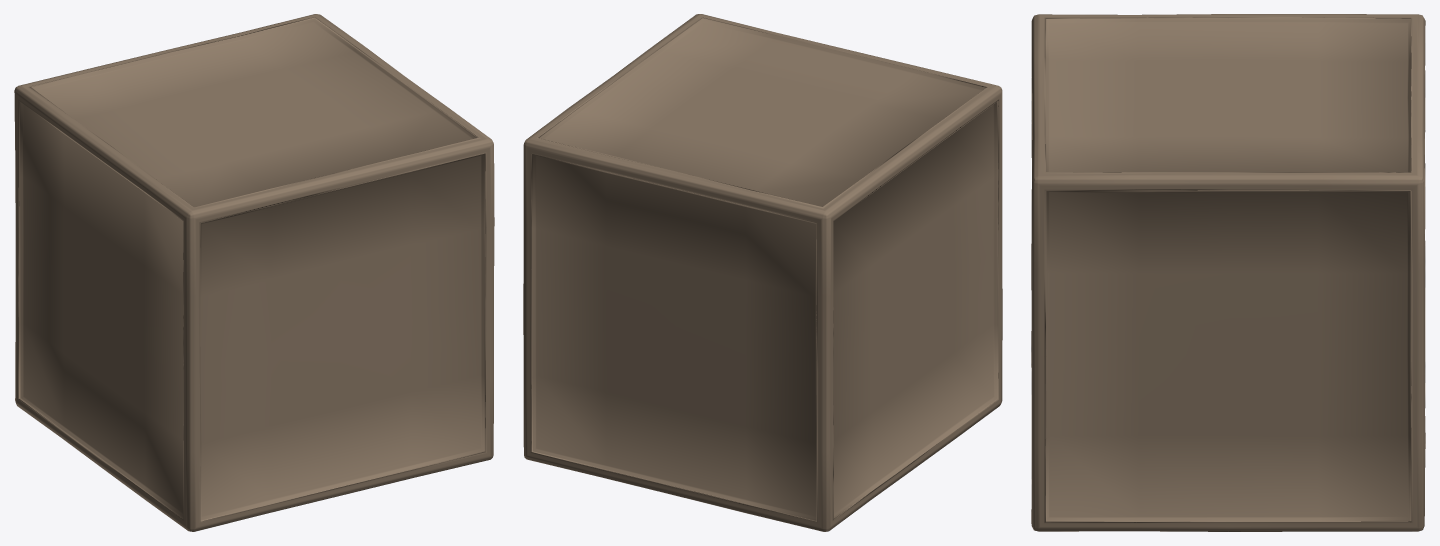
File: floor_1.fbx
The picture shows the model from 3 angles, left to right: view 1: azimuth 30°, elevation 25°; view 2: azimuth 150°, elevation 25°; view 3: azimuth 270°, elevation 25°; orthographic projection. The views are drawn at different scales.
Visible parts, largest first — view 1: floor_1; view 2: floor_1; view 3: floor_1.
Boxes of the visible parts, x1,y1,x2,y2 form: floor_1: [14, 14, 494, 531]; floor_1: [523, 14, 1002, 531]; floor_1: [1031, 14, 1425, 531].
Bounding box in the file's own units: 0.5018 × 0.5018 × 0.5019.
